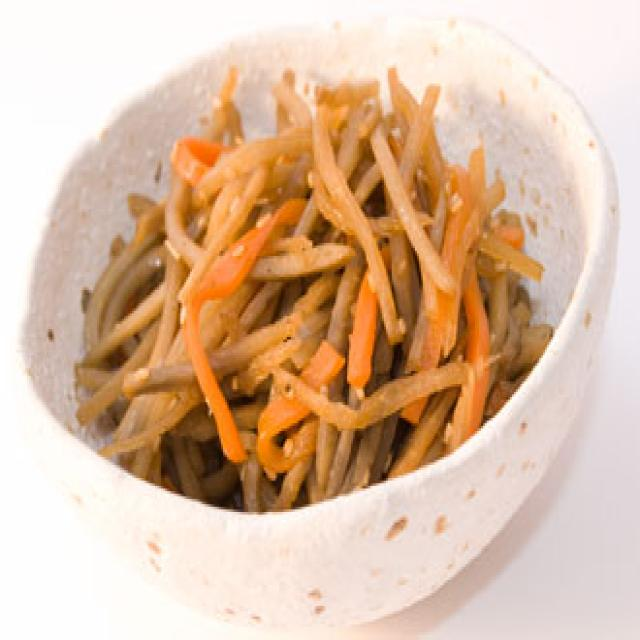蔬菜料理: (37, 29, 586, 572)
